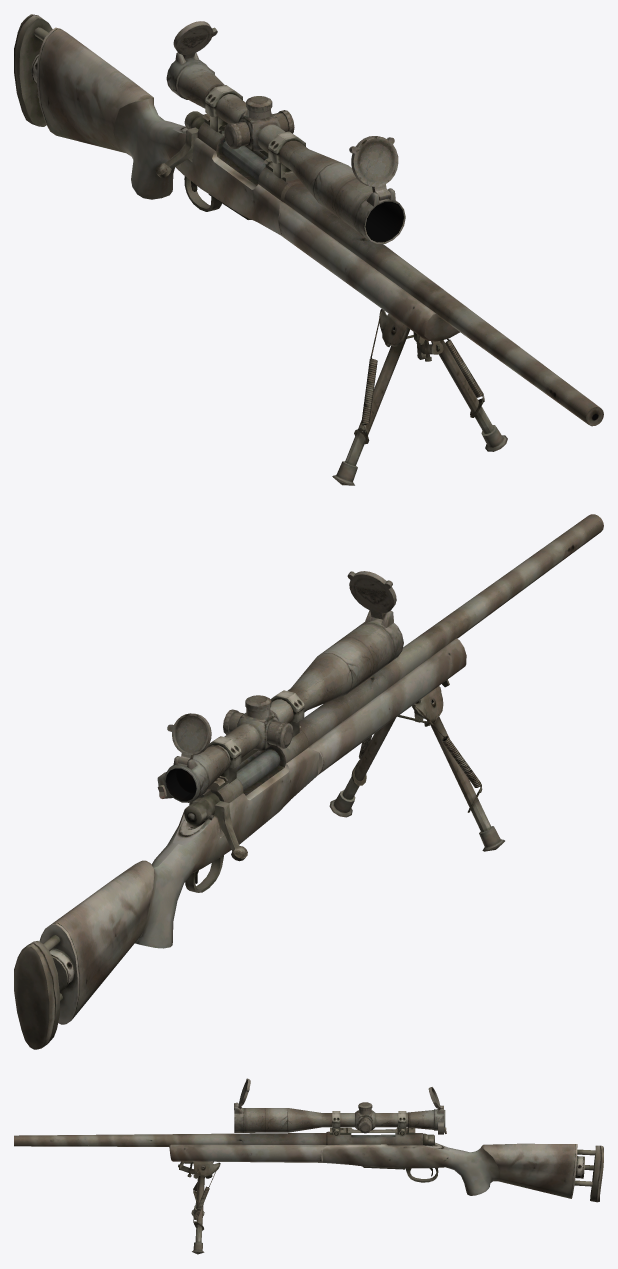
The picture shows the model from 3 angles, top to bottom: view 1: azimuth 30°, elevation 25°; view 2: azimuth 150°, elevation 25°; view 3: azimuth 270°, elevation 25°; orthographic projection. The views are drawn at different scales.
Parts seen in each view (by area): view 1: M24, m24scope; view 2: M24, m24scope; view 3: M24, m24scope.
Part boxes in pixels (box(x1,y1,x2,y2)): M24: box(14, 14, 603, 485); m24scope: box(166, 21, 405, 243); M24: box(14, 514, 603, 1049); m24scope: box(157, 571, 403, 802); M24: box(14, 1111, 603, 1254); m24scope: box(234, 1078, 446, 1134).
Size of what is drawn, in the model's own units: 2.64 by 4.34 by 15.01.
Materials: 3 (3 with a texture image).
